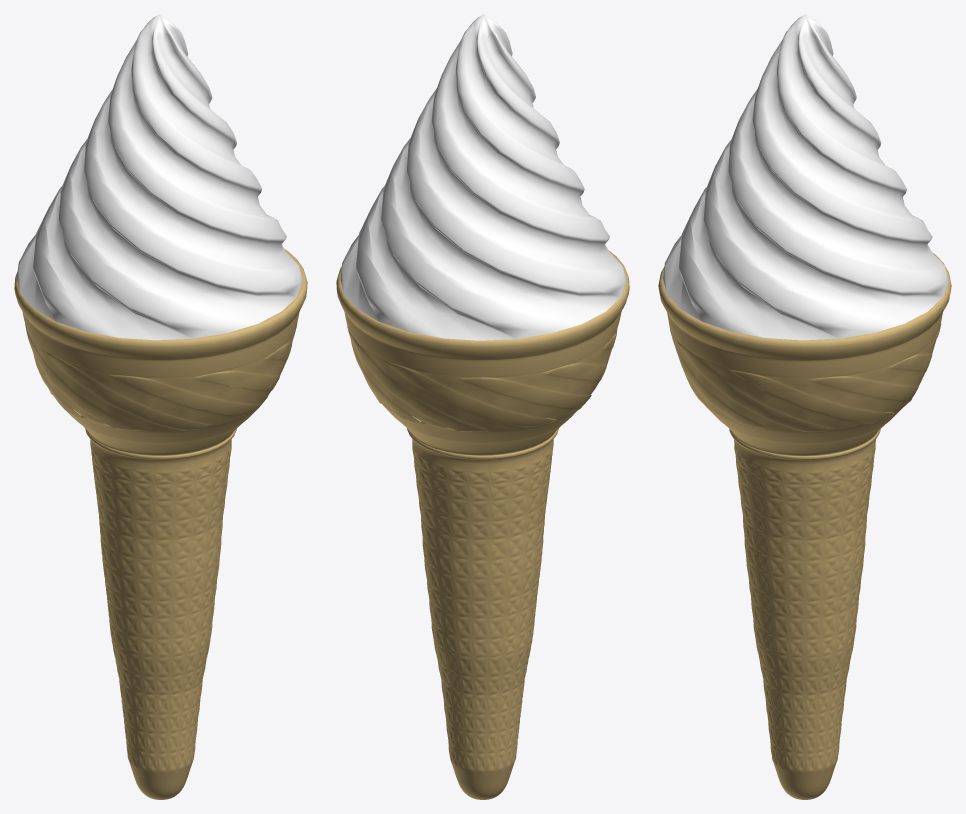
Rendered from icecream.glb.
3 renders of one model, left to right at view 1: azimuth 30°, elevation 25°; view 2: azimuth 150°, elevation 25°; view 3: azimuth 270°, elevation 25°, orthographic.
Parts seen in each view (by area): view 1: pCone1, pCone2; view 2: pCone1, pCone2; view 3: pCone1, pCone2.
Part boxes in pixels (x1,y1,x2,y2): pCone1: [14, 249, 307, 799]; pCone2: [16, 14, 302, 340]; pCone1: [336, 250, 629, 799]; pCone2: [340, 14, 626, 340]; pCone1: [658, 253, 951, 799]; pCone2: [663, 14, 948, 340].
Bounding box in the file's own units: 0.0416 × 0.1224 × 0.0416.
